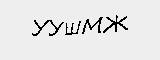Ж: (103, 11, 129, 35)
М: (82, 15, 102, 37)
У: (29, 16, 49, 41), (48, 19, 64, 39)
Ш: (64, 19, 80, 38)
